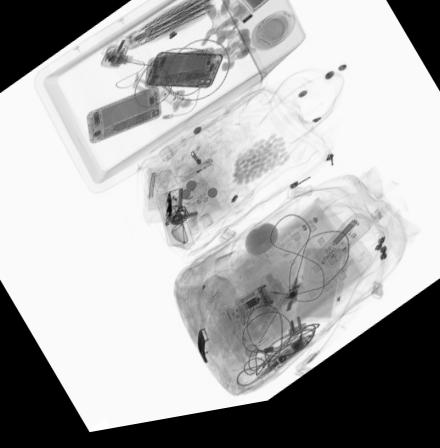Lighter: (178, 164, 214, 190)
